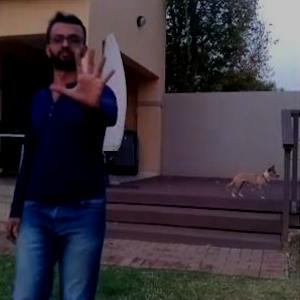follow_hand: (49, 43, 116, 112)
